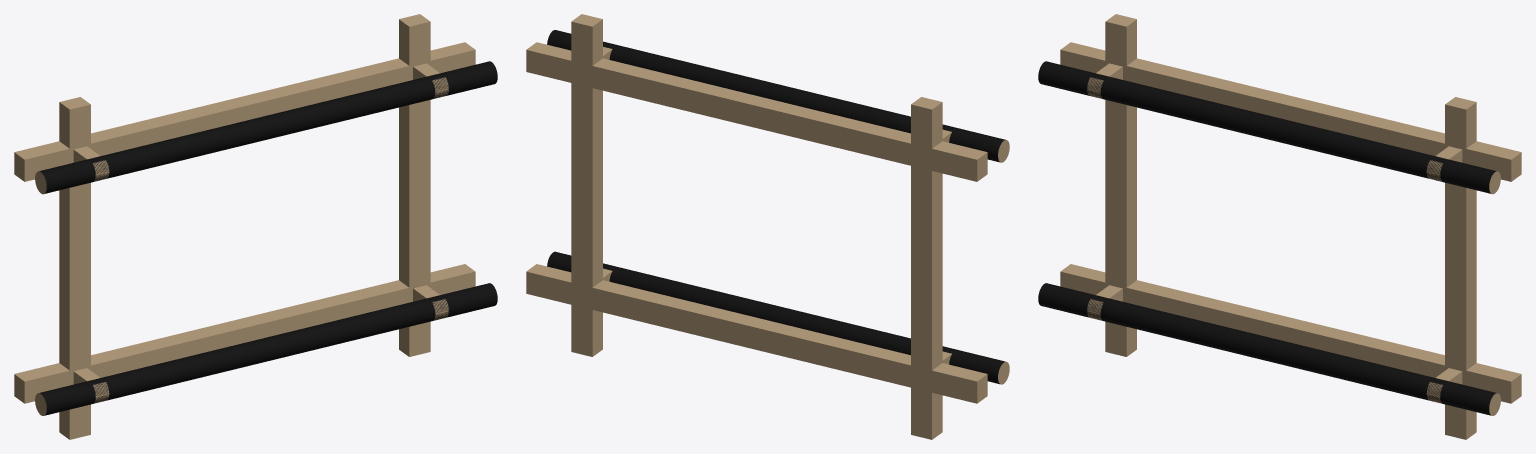
Rendered from Training Parallel Bars.obj.
3 renders of one model, left to right at view 1: azimuth 30°, elevation 25°; view 2: azimuth 150°, elevation 25°; view 3: azimuth 330°, elevation 25°, orthographic.
Parts seen in each view (by area): view 1: Body_01, Body_03, Body_02; view 2: Body_01, Body_03, Body_02; view 3: Body_01, Body_03, Body_02.
Boxes of the visible parts, <box> form: Body_01: <box>14,14,475,439</box>; Body_03: <box>35,61,497,194</box>; Body_02: <box>35,283,497,415</box>; Body_01: <box>526,14,987,439</box>; Body_03: <box>547,30,1009,162</box>; Body_02: <box>547,251,1009,384</box>; Body_01: <box>1060,14,1521,439</box>; Body_03: <box>1038,61,1500,194</box>; Body_02: <box>1038,283,1500,415</box>.
Bounding box in the file's own units: 1 × 0.7 × 0.125.
